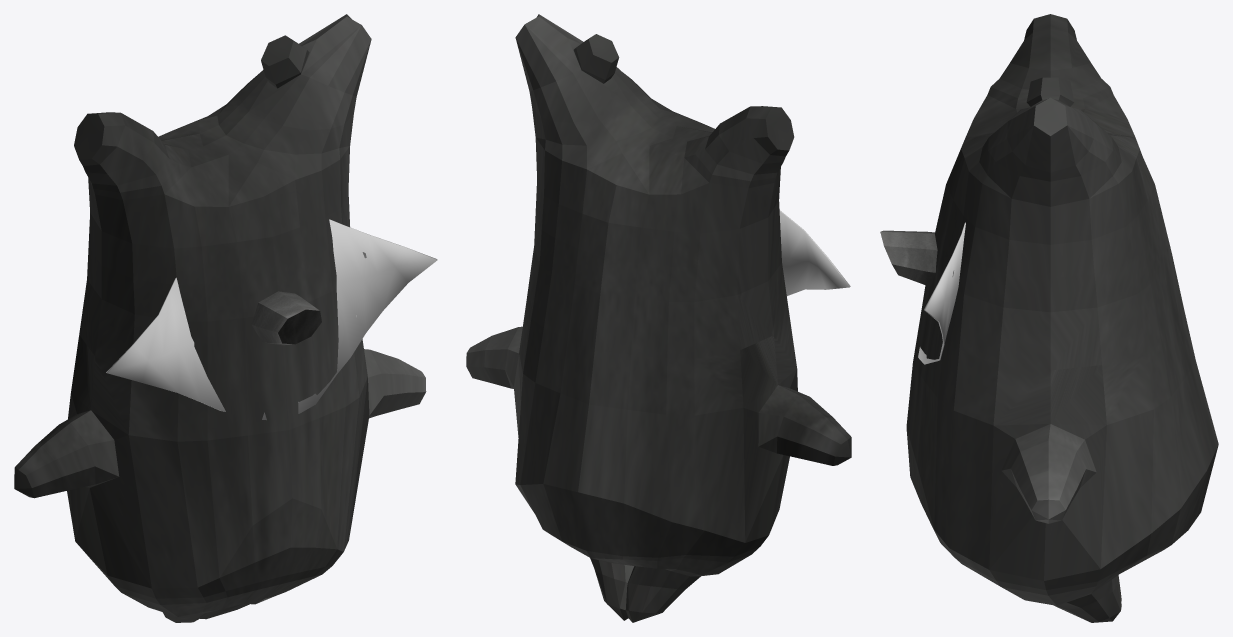
Rendered from frame_0004.obj.
3 views of the same model, side by side, from view 1: azimuth 30°, elevation 25°; view 2: azimuth 150°, elevation 25°; view 3: azimuth 270°, elevation 25° (orthographic). The views are drawn at different scales.
Visible parts, largest first — view 1: korok, leaf, nose; view 2: korok, leaf; view 3: korok, nose, leaf.
Part boxes in pixels (x1=…): korok: x1=14, y1=14, x2=426, y2=622; leaf: x1=106, y1=219, x2=437, y2=420; nose: x1=251, y1=291, x2=321, y2=345; korok: x1=466, y1=14, x2=851, y2=622; leaf: x1=779, y1=210, x2=850, y2=295; korok: x1=906, y1=14, x2=1218, y2=622; nose: x1=880, y1=230, x2=937, y2=286; leaf: x1=918, y1=222, x2=965, y2=364.
Bounding box in the file's own units: 1.75 × 2.41 × 1.27.
